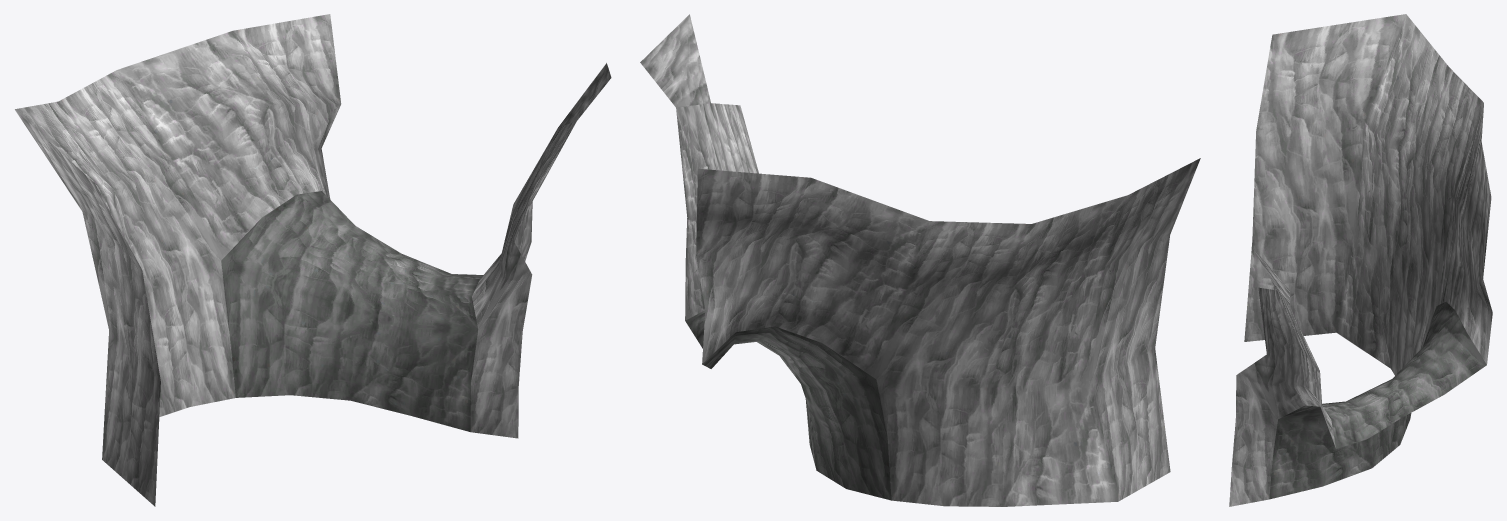
The model's file is SWORDLIGHT20_PS-AREA03_07.fbx.
3 views of the same model, side by side, from view 1: azimuth 30°, elevation 25°; view 2: azimuth 150°, elevation 25°; view 3: azimuth 270°, elevation 25° (orthographic). The views are drawn at different scales.
Parts seen in each view (by area): view 1: SWORDLIGHT20_PS-AREA03_07; view 2: SWORDLIGHT20_PS-AREA03_07; view 3: SWORDLIGHT20_PS-AREA03_07.
Boxes of the visible parts, x1,y1,x2,y2 form: SWORDLIGHT20_PS-AREA03_07: (15, 14, 611, 506); SWORDLIGHT20_PS-AREA03_07: (640, 14, 1200, 506); SWORDLIGHT20_PS-AREA03_07: (1229, 14, 1492, 506).
Bounding box in the file's own units: 207849 × 134195 × 100057.
Materials: 2 (2 with a texture image).
